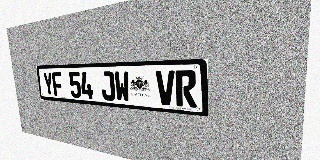4: (80, 71, 94, 99)
5: (69, 72, 82, 98)
F: (51, 72, 64, 97)
J: (100, 71, 116, 101)
R: (175, 70, 197, 108)
V: (156, 70, 176, 106)
W: (114, 71, 130, 102)
Y: (43, 72, 54, 96)
